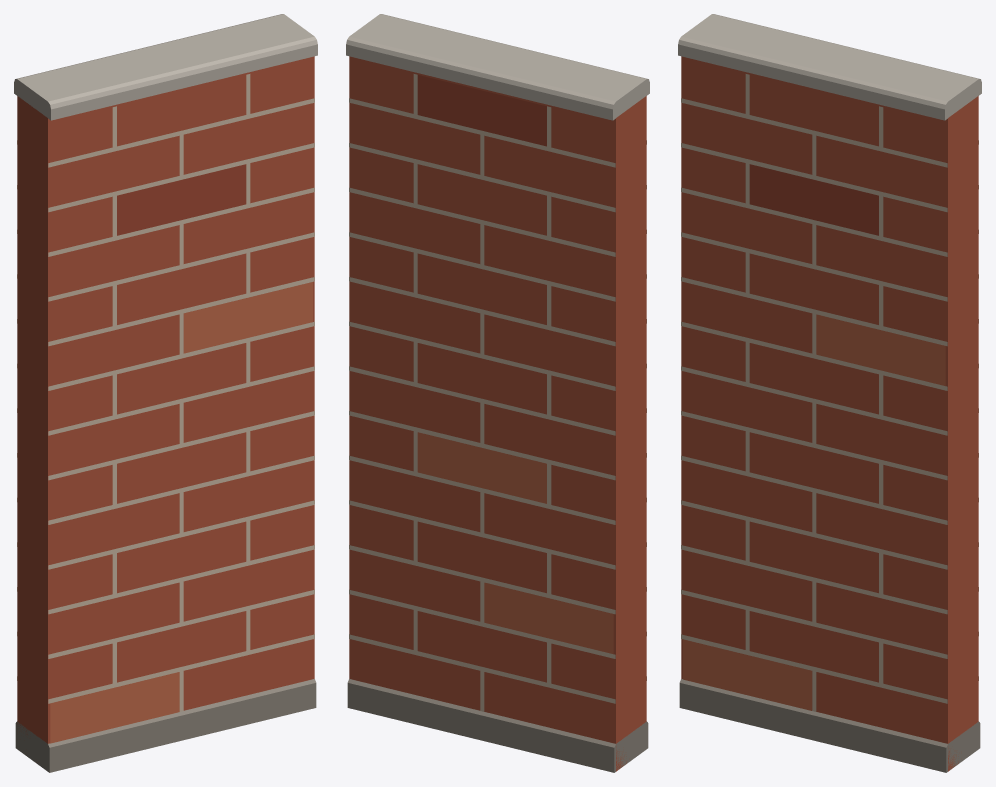
Rendered from wand_voll.glb.
3 views of the same model, side by side, from view 1: azimuth 30°, elevation 25°; view 2: azimuth 150°, elevation 25°; view 3: azimuth 330°, elevation 25° (orthographic).
Visible parts, largest first — view 1: wand_voll; view 2: wand_voll; view 3: wand_voll.
Boxes of the visible parts, left/top/right/bottom form: wand_voll: left=14, top=14, right=317, bottom=772; wand_voll: left=346, top=14, right=649, bottom=772; wand_voll: left=678, top=14, right=981, bottom=772.
Bounding box in the file's own units: 1 × 2.4 × 0.24.
